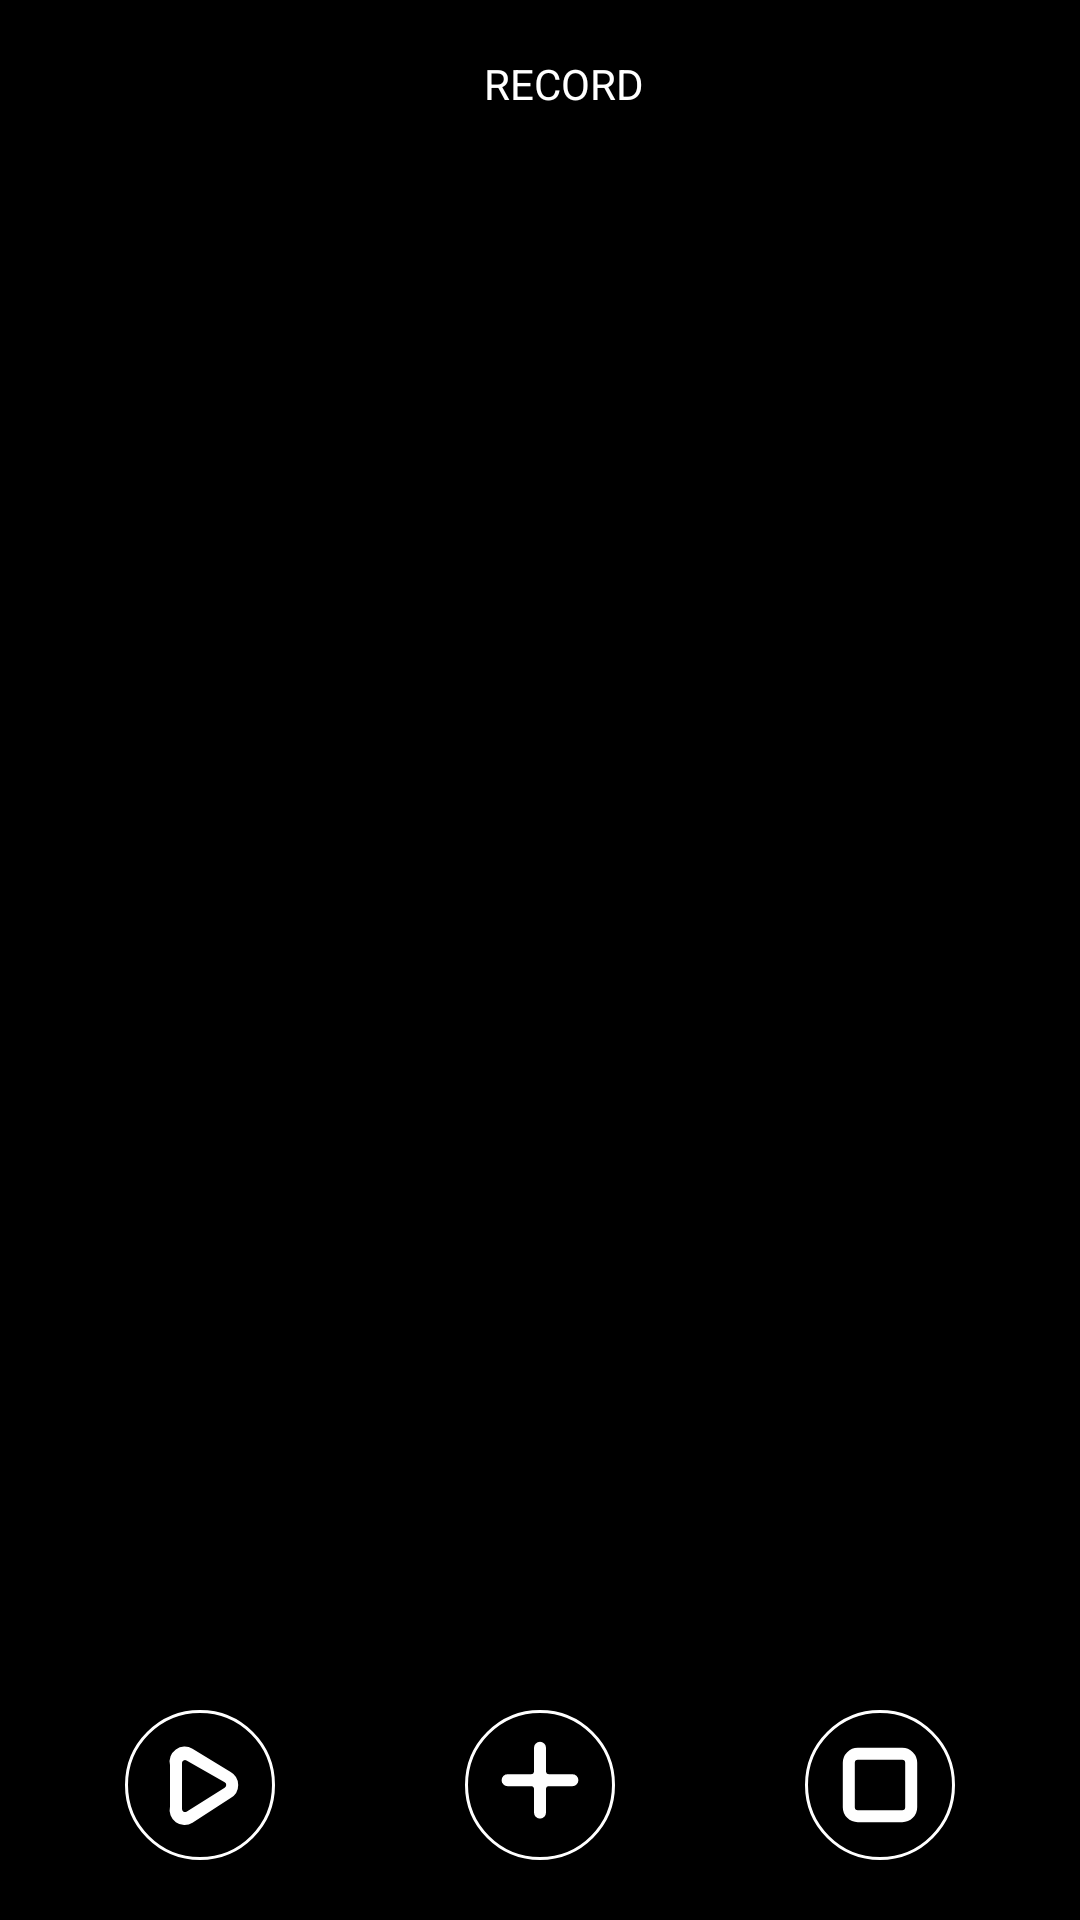

Locate icon controls on the screen. Image size 1080*1920, boxes as box=[x1, y1, x2, y2].
End: box=[805, 1710, 955, 1860]
Start/Pause: box=[125, 1710, 275, 1860]
